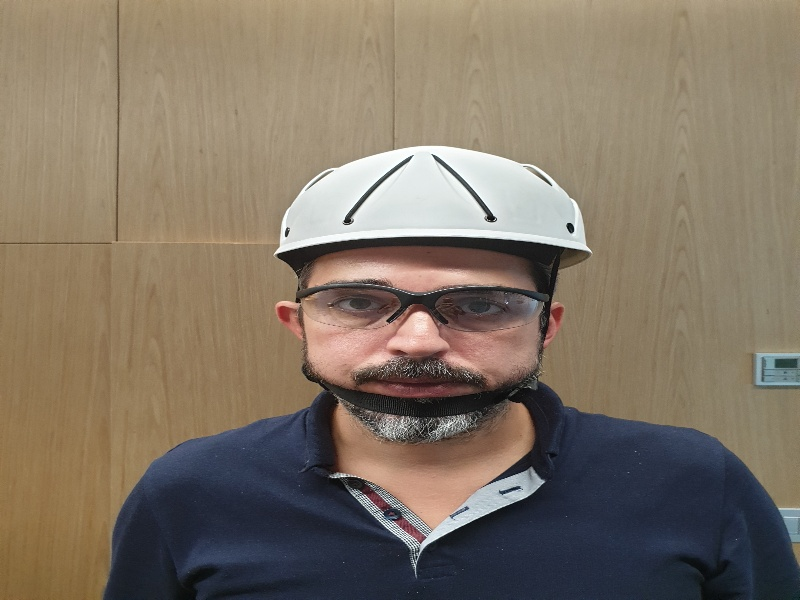Baret: (276, 146, 594, 265)
Gozluk: (294, 282, 550, 338)
